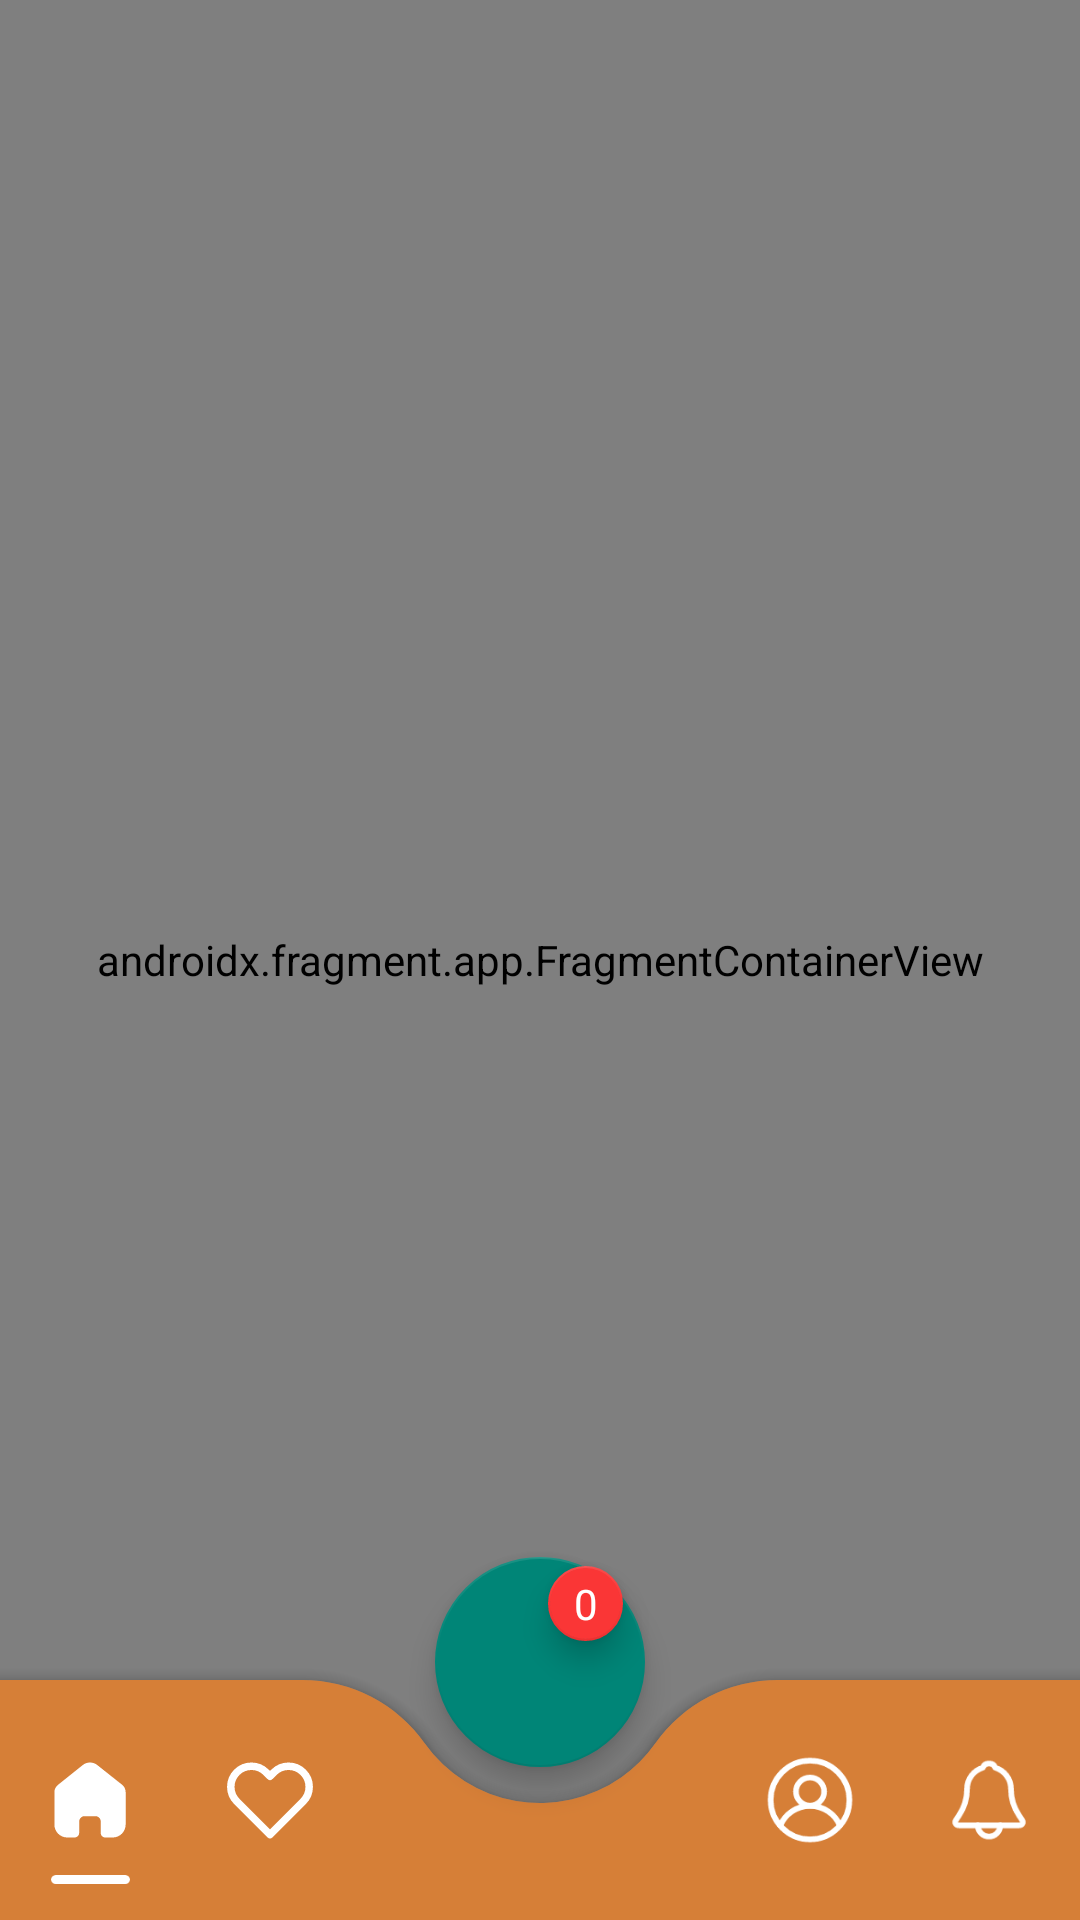

Icon click points for this 1080px×1920px phone screenshot, format (x=x, y=y):
heart: (x=270, y=1800)
home: (x=90, y=1800)
notification: (x=989, y=1800)
profile: (x=810, y=1800)
